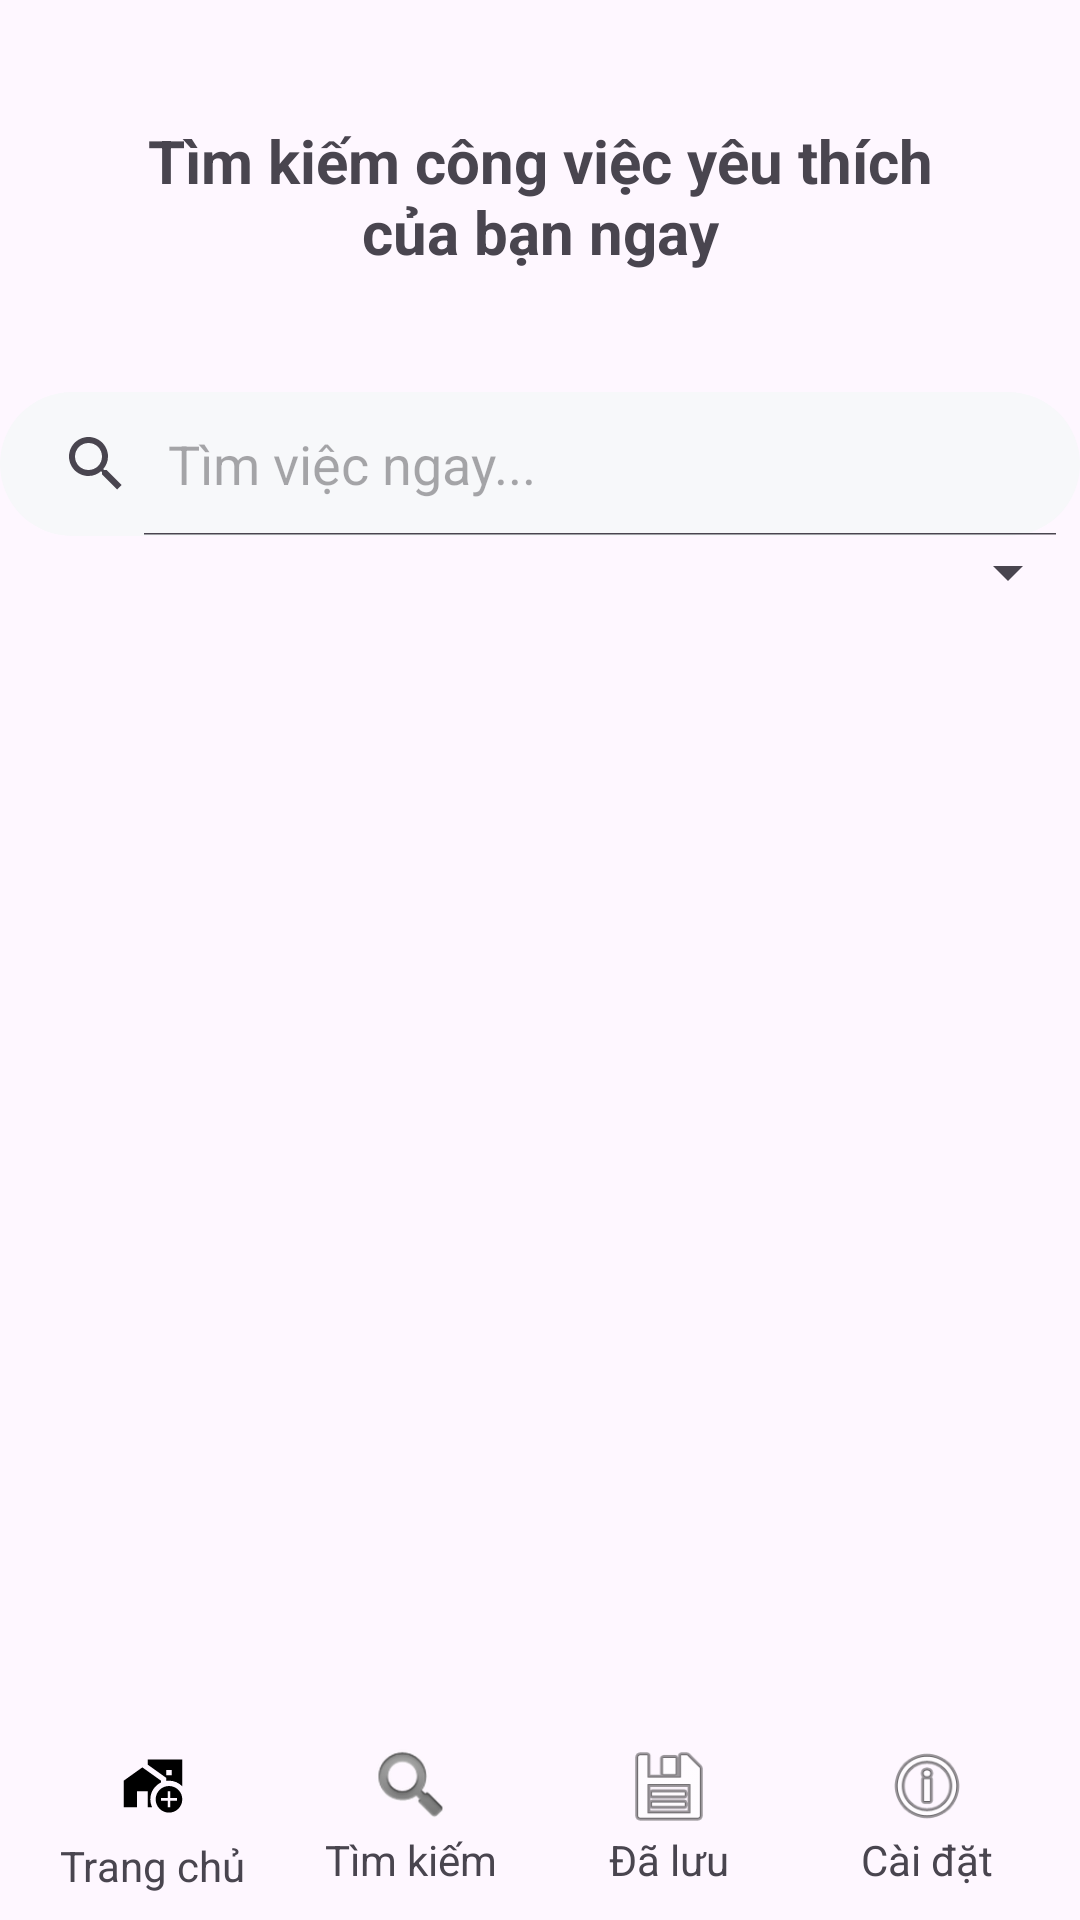

Icons on this 1080*1920 Android screen, each with its box as region(x1, y1, x2, y2):
info details: region(894, 1754, 960, 1819)
